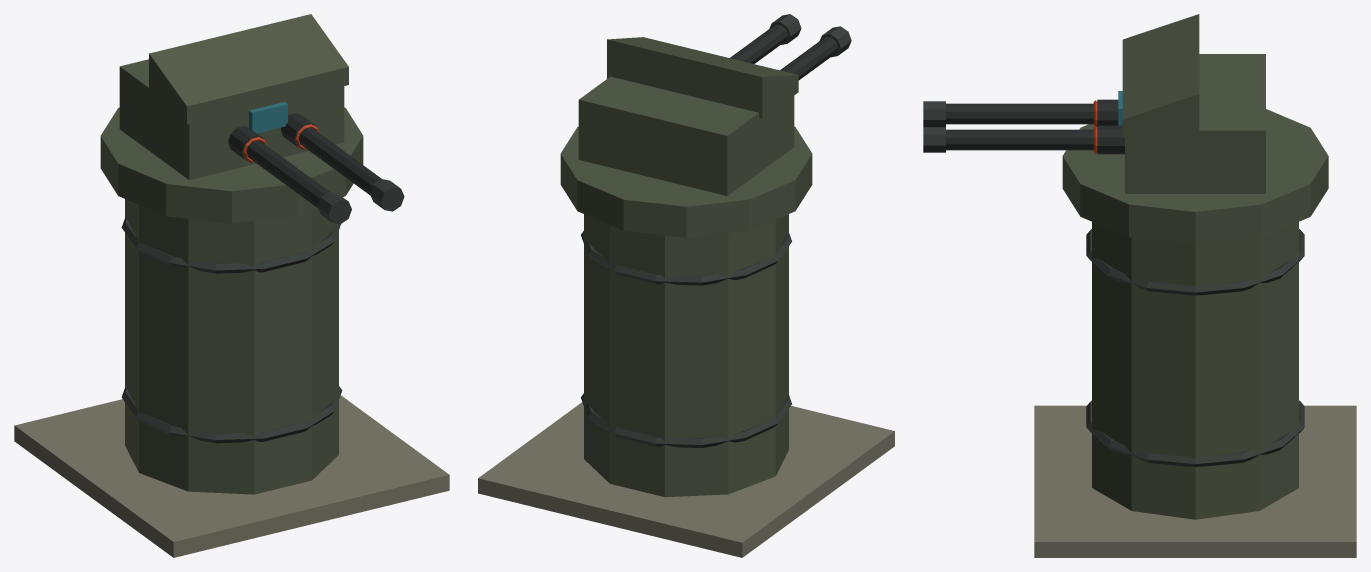
File: Bastion_GunTower_Static.obj
3 renders of one model, left to right at view 1: azimuth 30°, elevation 25°; view 2: azimuth 150°, elevation 25°; view 3: azimuth 270°, elevation 25°, orthographic. The views are drawn at different scales.
Visible parts, largest first — view 1: Bastion_GunTower_Static; view 2: Bastion_GunTower_Static; view 3: Bastion_GunTower_Static.
Boxes of the visible parts, <box> form: Bastion_GunTower_Static: <box>14,14,449,557</box>; Bastion_GunTower_Static: <box>478,14,894,557</box>; Bastion_GunTower_Static: <box>923,14,1356,557</box>.
Bounding box in the file's own units: 4 × 5.97 × 5.38.
1 material, 1 textured.
